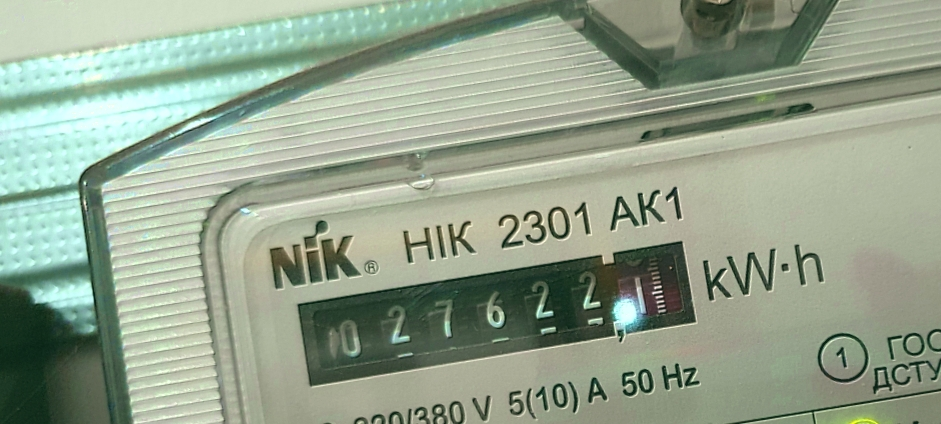0: (335, 314, 366, 360)
1: (629, 271, 652, 316)
2: (527, 276, 558, 321), (384, 301, 414, 347), (576, 267, 604, 311)
6: (481, 287, 509, 330)
7: (432, 295, 462, 342)
screen: (283, 228, 712, 394)
